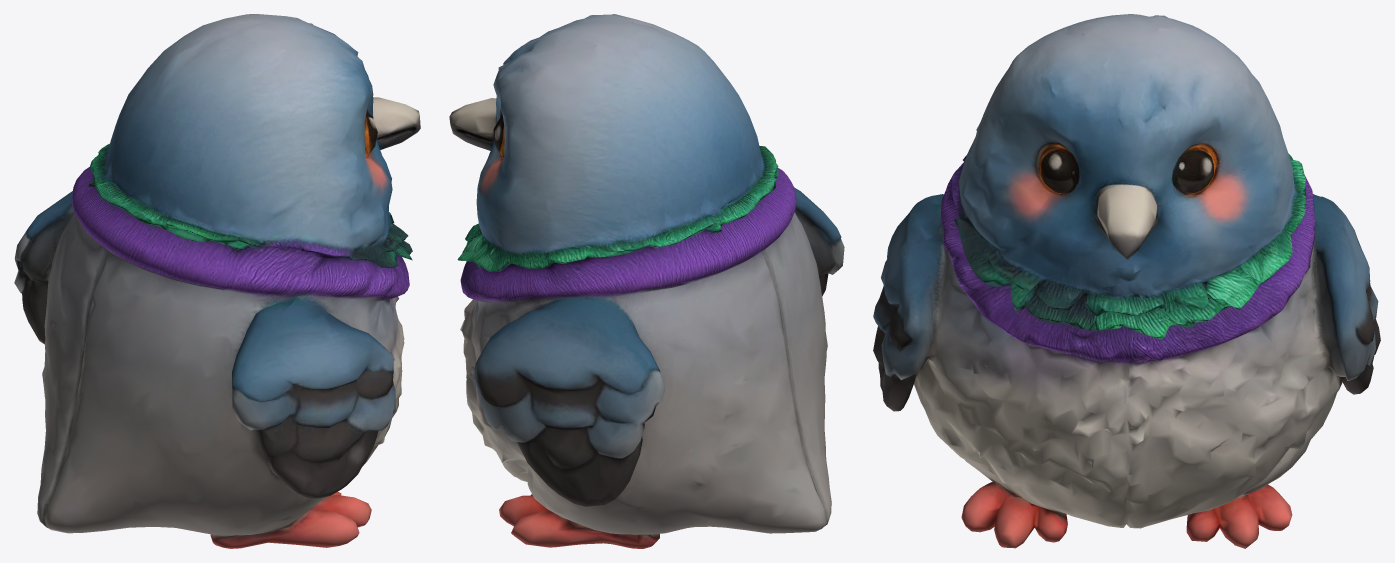
The model's file is pigeon.glb.
3 views of the same model, side by side, from view 1: azimuth 30°, elevation 25°; view 2: azimuth 150°, elevation 25°; view 3: azimuth 270°, elevation 25° (orthographic). The views are drawn at different scales.
Visible parts, largest first — view 1: tripo_node_ad2a7d93-da40-48aa-8876-9243660507fb; view 2: tripo_node_ad2a7d93-da40-48aa-8876-9243660507fb; view 3: tripo_node_ad2a7d93-da40-48aa-8876-9243660507fb.
Part boxes in pixels (x1,y1,x2,y2): tripo_node_ad2a7d93-da40-48aa-8876-9243660507fb: (14, 14, 420, 548); tripo_node_ad2a7d93-da40-48aa-8876-9243660507fb: (449, 14, 844, 548); tripo_node_ad2a7d93-da40-48aa-8876-9243660507fb: (873, 14, 1380, 548).
Bounding box in the file's own units: 0.848 × 1 × 0.922.
1 material, 1 textured.
